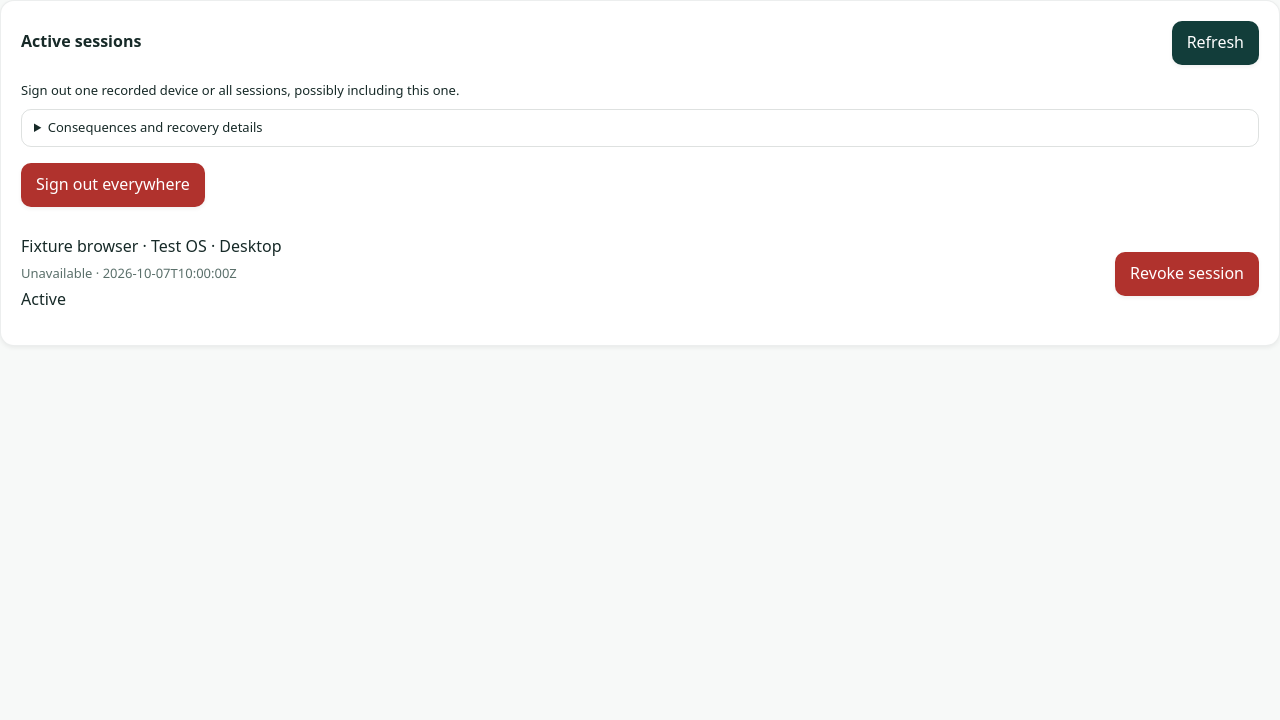
unconfirmed revocation preserves target; verification unlocks a manual retry and no offline replay occurs
Expected: the text "Fixture browser · Test OS · Desktop" is shown, 21,230 -> 282,264
Click the button "Revoke session": [1187, 274] box 1115,252 -> 1259,296
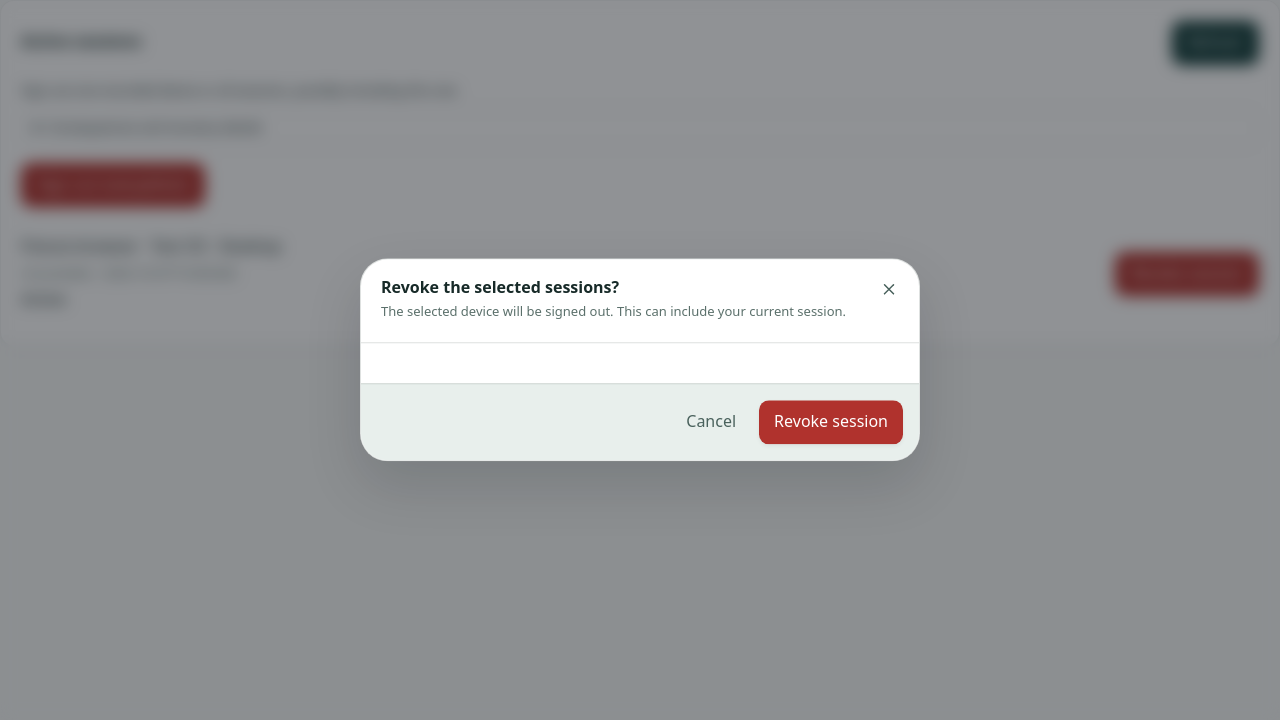
Click the button "Revoke session": [831, 423] box 759,401 -> 903,445
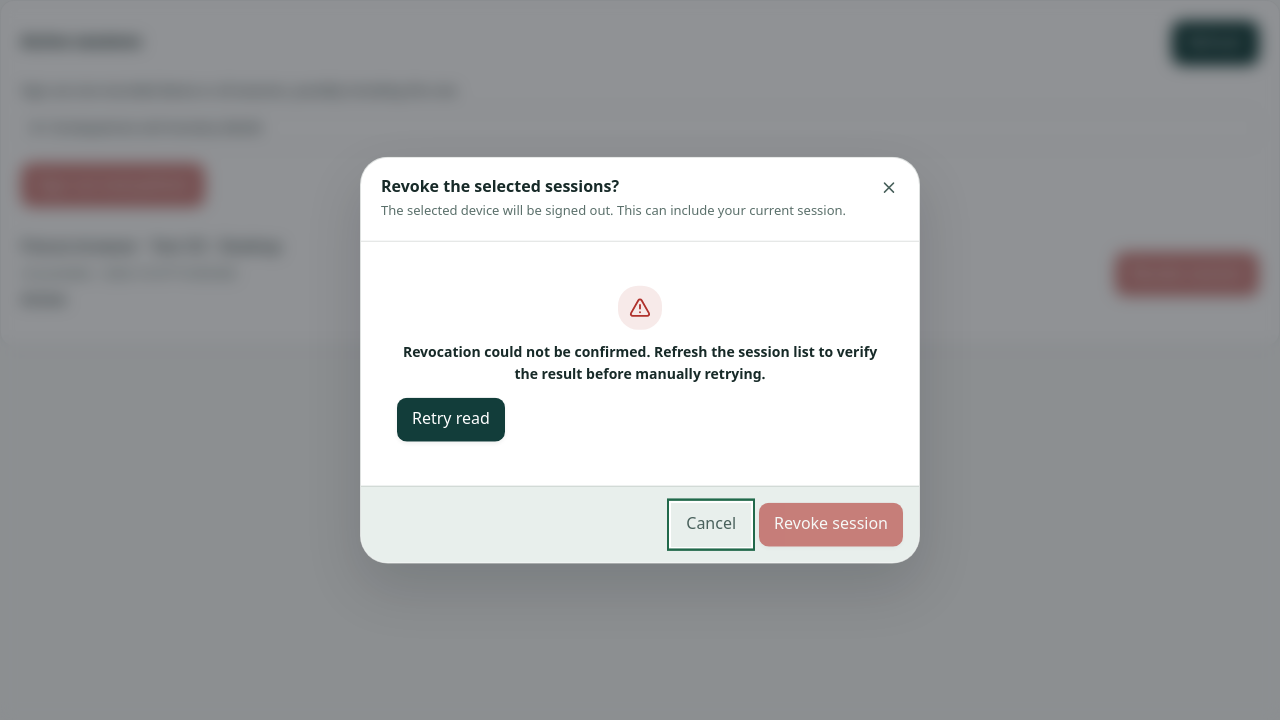
Expected: the text "Revocation could not be confirmed. Refresh the session list to verify the result before manually retrying." is shown, 403,338 -> 877,389
Expected: the button "Revoke session" is disabled, 759,502 -> 903,546
Click the button "Retry read": [451, 419] box 397,397 -> 505,441
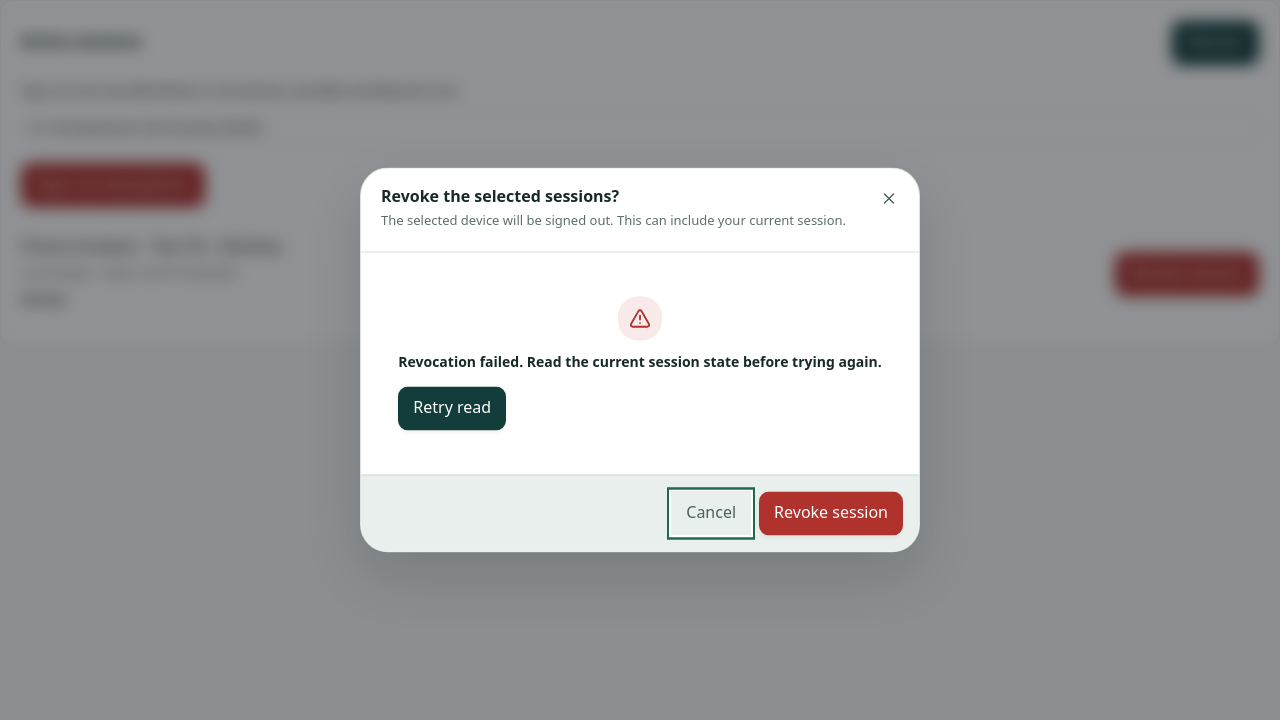
Expected: the button "Revoke session" is enabled
Click the button "Revoke session": [831, 514] box 759,492 -> 903,536
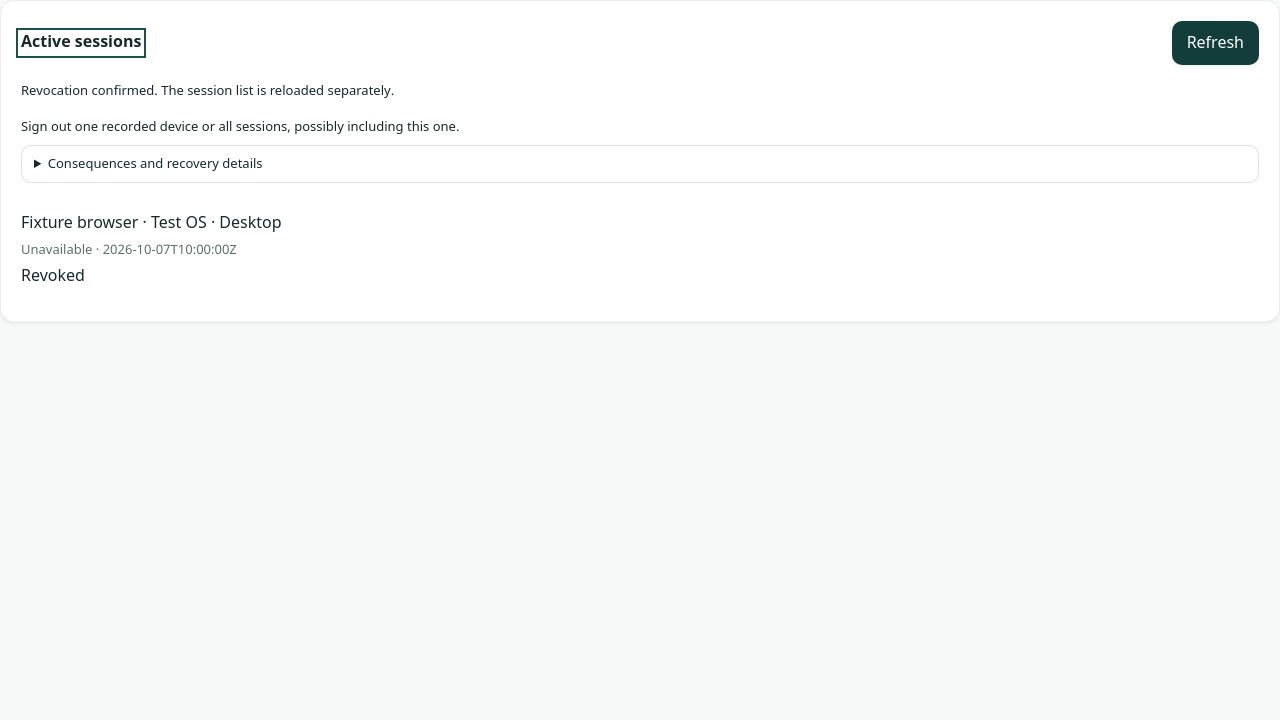
Expected: the text "Revocation confirmed. The session list is reloaded separately." is shown, 21,77 -> 394,105
